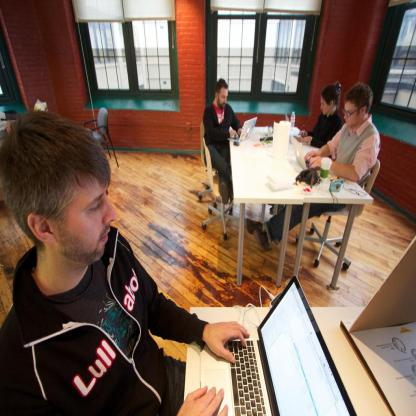board: (199, 275, 356, 416), (290, 134, 320, 174), (226, 116, 258, 144), (320, 158, 331, 184), (290, 112, 297, 130)
